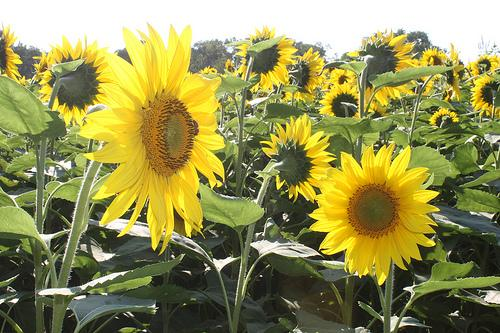sunflower: (80, 21, 229, 252), (310, 140, 438, 281), (36, 36, 107, 120), (263, 116, 321, 203), (358, 31, 415, 68), (318, 84, 364, 122), (0, 23, 26, 80), (472, 72, 499, 119)
